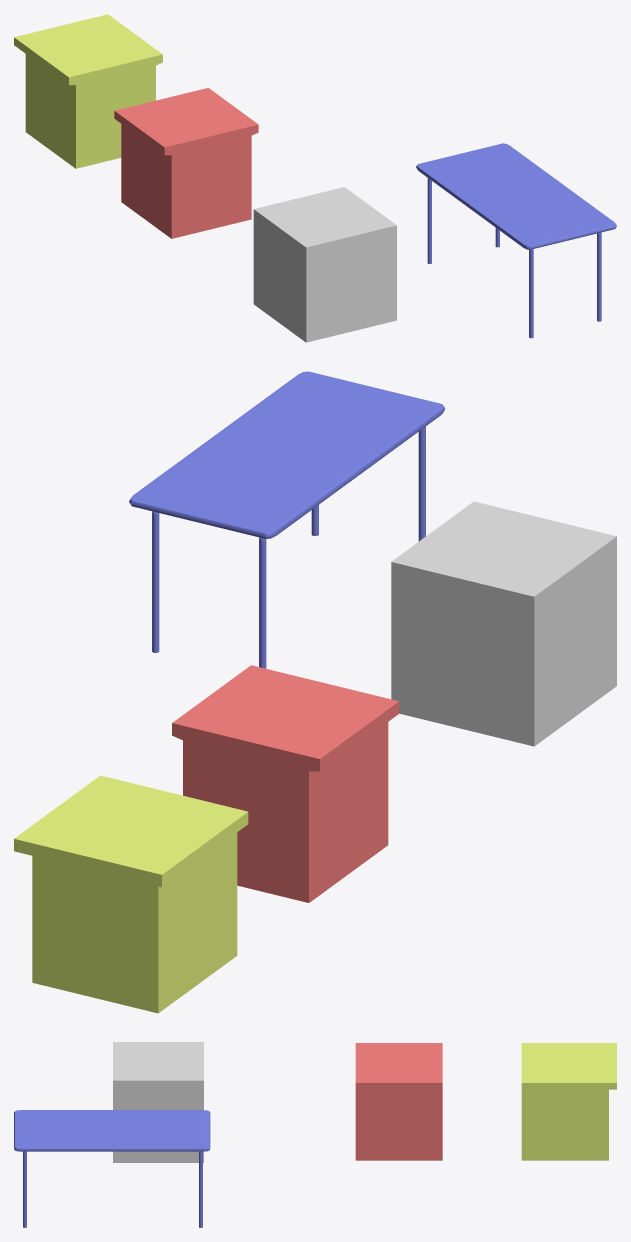
The model's file is MesasEX.fbx.
The picture shows the model from 3 angles, top to bottom: view 1: azimuth 30°, elevation 25°; view 2: azimuth 150°, elevation 25°; view 3: azimuth 270°, elevation 25°; orthographic projection. The views are drawn at different scales.
Visible parts, largest first — view 1: MesaLado, MesaCentro, Box005, Mesa1; view 2: MesaLado, Box005, MesaCentro, Mesa1; view 3: Box005, MesaCentro, Mesa1, MesaLado.
Boxes of the visible parts, <box> form: MesaLado: <box>253,187,396,342</box>; MesaCentro: <box>114,88,258,238</box>; Box005: <box>14,14,162,168</box>; Mesa1: <box>416,143,616,338</box>; MesaLado: <box>391,501,616,746</box>; Box005: <box>14,775,248,1013</box>; MesaCentro: <box>172,665,399,902</box>; Mesa1: <box>129,371,445,668</box>; Box005: <box>521,1043,616,1160</box>; MesaCentro: <box>355,1043,442,1160</box>; Mesa1: <box>14,1110,210,1227</box>; MesaLado: <box>113,1042,203,1162</box>.
Size of the model in its own units: 111 by 40.16 by 261.
